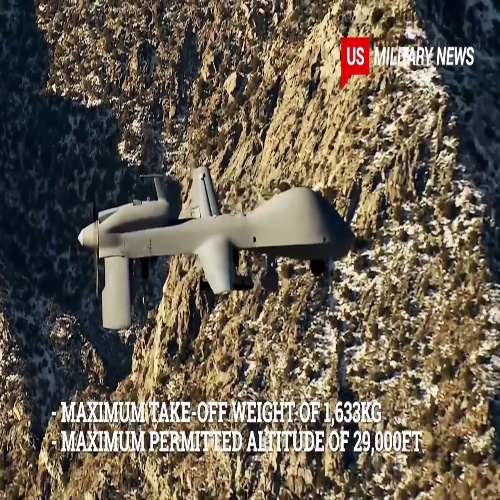uav: (75, 163, 360, 332)
